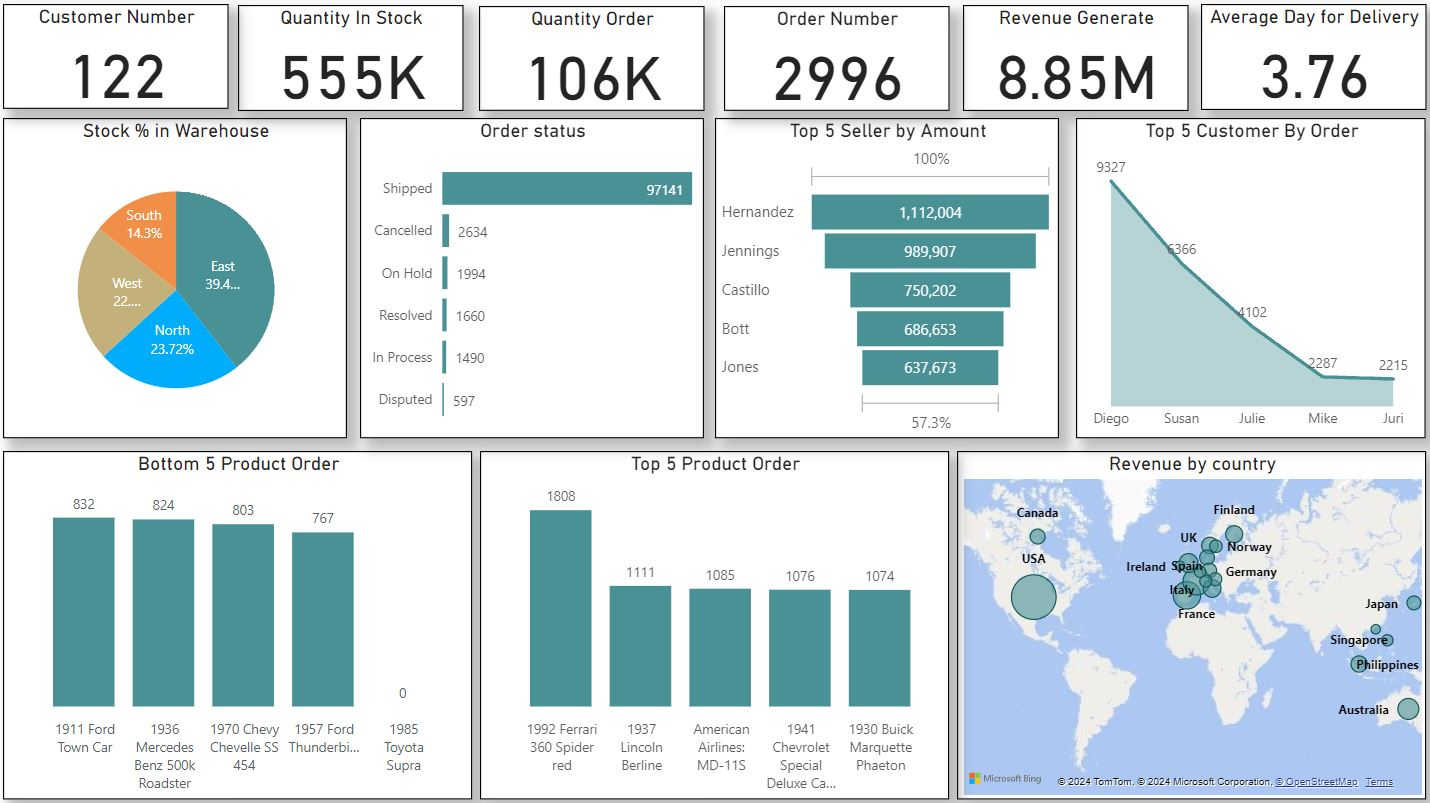

What the dashboard file says about the page in this screenshot:
{"tool":"powerbi","page":{"name":"Dashboard","canvas":[1280,720],"ordinal":0},"visuals":[{"type":"pieChart","title":"Stock % in Warehouse","fields":{"Category":["mintclassics warehouses.warehouseName"],"Y":["mintclassics products.quantityInStock"]},"box":[8.9,107.3,305,283.7],"z":0},{"type":"card","title":"Revenue Generate","fields":{"Values":["payments.amount"]},"box":[860.1,7.1,199.5,94],"z":1000},{"type":"card","title":"Quantity Order","fields":{"Values":["orderdetails.quantityOrdered"]},"box":[430.9,8,199.5,93.1],"z":2000},{"type":"card","title":"Quantity In Stock","fields":{"Values":["products.quantityInStock"]},"box":[217.2,7.1,199.5,94],"z":3000},{"type":"card","title":"Average Day for Delivery","fields":{"Values":["orders.Delivery day"]},"box":[1071.1,6.2,199.5,94],"z":4000},{"type":"map","title":"Revenue by country","fields":{"Category":["customers.country"],"Size":["payments.amount"]},"box":[854.8,402.6,415.9,308.6],"z":5000},{"type":"clusteredColumnChart","title":"Bottom 5 Product Order","fields":{"Category":["products.productName"],"Y":["AvailableQuantity.TotalQuantityOrdered"]},"box":[8.9,402.6,415.9,308.6],"z":6000},{"type":"columnChart","title":"Top 5 Product Order","fields":{"Category":["products.productName"],"Y":["AvailableQuantity.TotalQuantityOrdered"]},"box":[431.8,402.6,415.9,308.6],"z":7000},{"type":"barChart","title":"Order status","fields":{"Category":["orders.status"],"Y":["orderdetails.quantityOrdered"]},"box":[325.4,107.3,305,283.7],"z":8000},{"type":"stackedAreaChart","title":"Top 5 Customer By Order","fields":{"Category":["customers.contactFirstName"],"Y":["orderdetails.quantityOrdered"]},"box":[960.3,107.3,310.3,283.7],"z":9000},{"type":"funnel","title":"Top 5 Seller by Amount","fields":{"Category":["3 employees.lastName"],"Y":["payments.amount"]},"box":[640.2,107.3,305,283.7],"z":10000},{"type":"card","title":"Customer Number","fields":{"Values":["customers.customerNumber"]},"box":[8.9,6.2,199.5,93.1],"z":11000},{"type":"card","title":"Order Number","fields":{"Values":["orderdetails.orderNumber"]},"box":[648.2,8,199.5,93.1],"z":12000}]}

Visuals, with their boxes in screenshot pixels (x1, y1, x2, y2), scaled from the page's 1280x720 canvas onto the 1430x803 screenshot:
"Stock % in Warehouse" pieChart: <region>10, 120, 351, 436</region>
"Revenue Generate" card: <region>961, 8, 1184, 113</region>
"Quantity Order" card: <region>481, 9, 704, 113</region>
"Quantity In Stock" card: <region>243, 8, 466, 113</region>
"Average Day for Delivery" card: <region>1197, 7, 1419, 112</region>
"Revenue by country" map: <region>955, 449, 1420, 793</region>
"Bottom 5 Product Order" clusteredColumnChart: <region>10, 449, 475, 793</region>
"Top 5 Product Order" columnChart: <region>482, 449, 947, 793</region>
"Order status" barChart: <region>364, 120, 704, 436</region>
"Top 5 Customer By Order" stackedAreaChart: <region>1073, 120, 1419, 436</region>
"Top 5 Seller by Amount" funnel: <region>715, 120, 1056, 436</region>
"Customer Number" card: <region>10, 7, 233, 111</region>
"Order Number" card: <region>724, 9, 947, 113</region>
